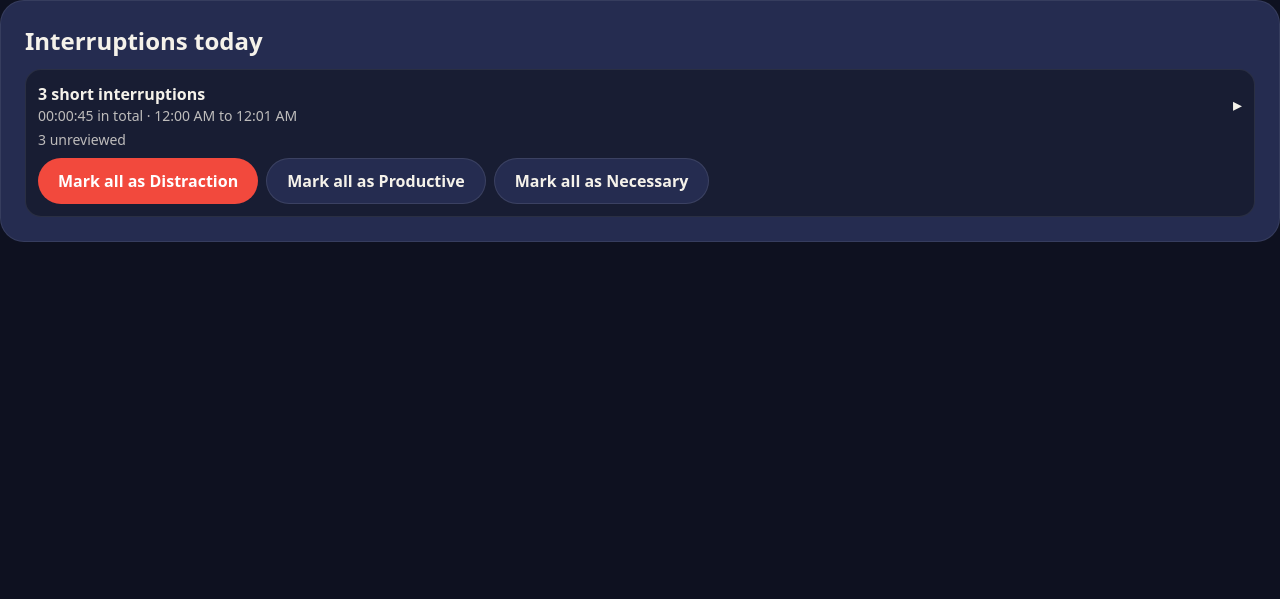
Scenario: InterruptionsPanel › shows a collapsed group, expands to the individual events, and keeps single labeling
Later steps or results of the test are not shown.
Step 1. Click the button "3 short interruptions" → (122, 94), box left=38, top=82, right=1242, bottom=126
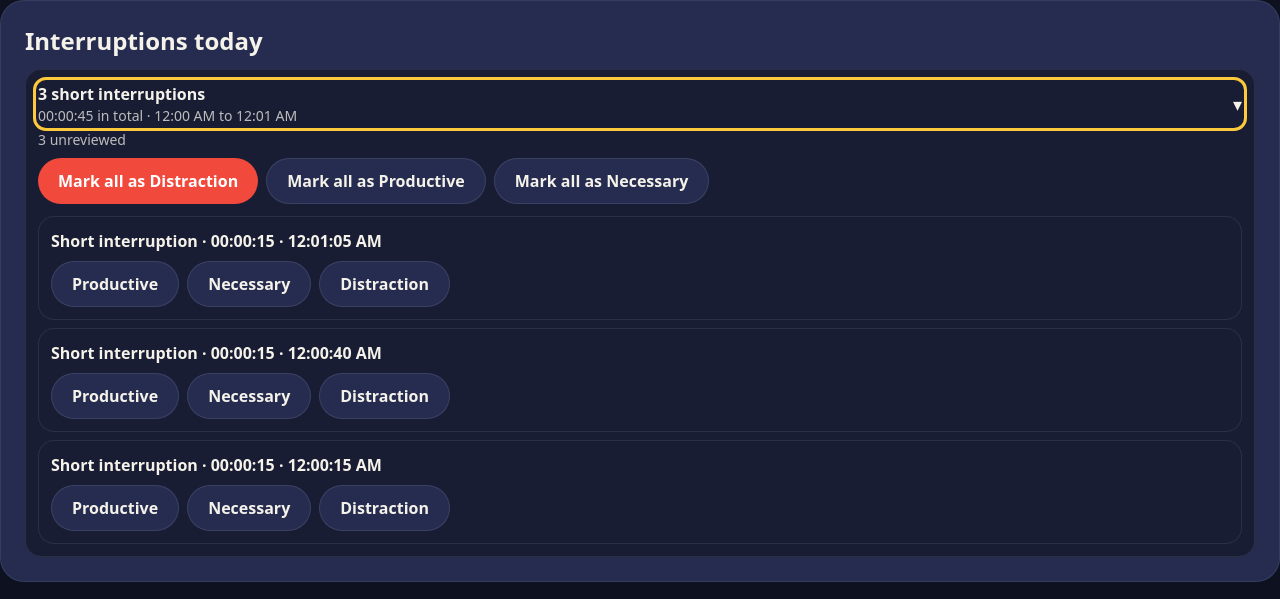
Check: the button "3 short interruptions" is expanded, box left=38, top=82, right=1242, bottom=126
Check: the text "Short interruption · 00:00:15 · 12:01:05 AM" is shown 3 times, box left=51, top=230, right=382, bottom=252; left=51, top=342, right=382, bottom=364; left=51, top=454, right=382, bottom=476
